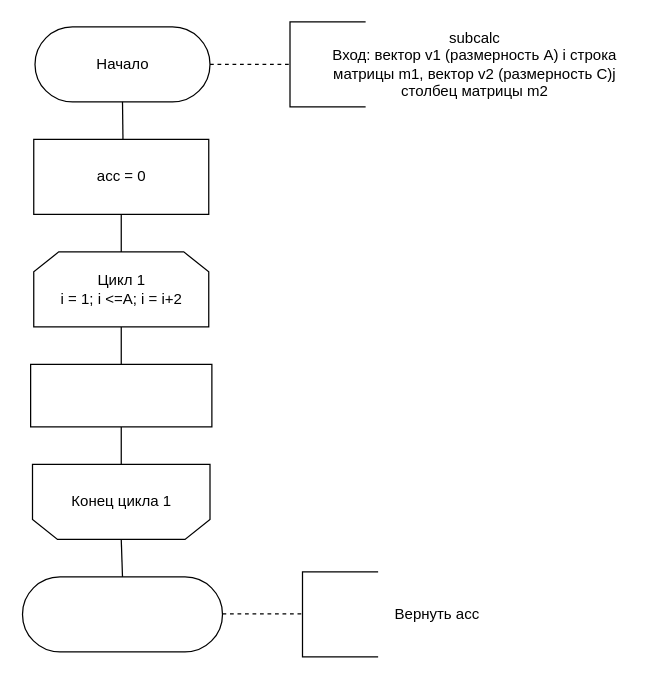
Image size: 653x679. Some labels were removed from this diagram. Each missing label, with the centre of its shape:
acc += (v1[i + 1] + v2[i]) * ( v1[i] + v2[i + 1]): the point at 120,395
Конец: the point at 121,614
